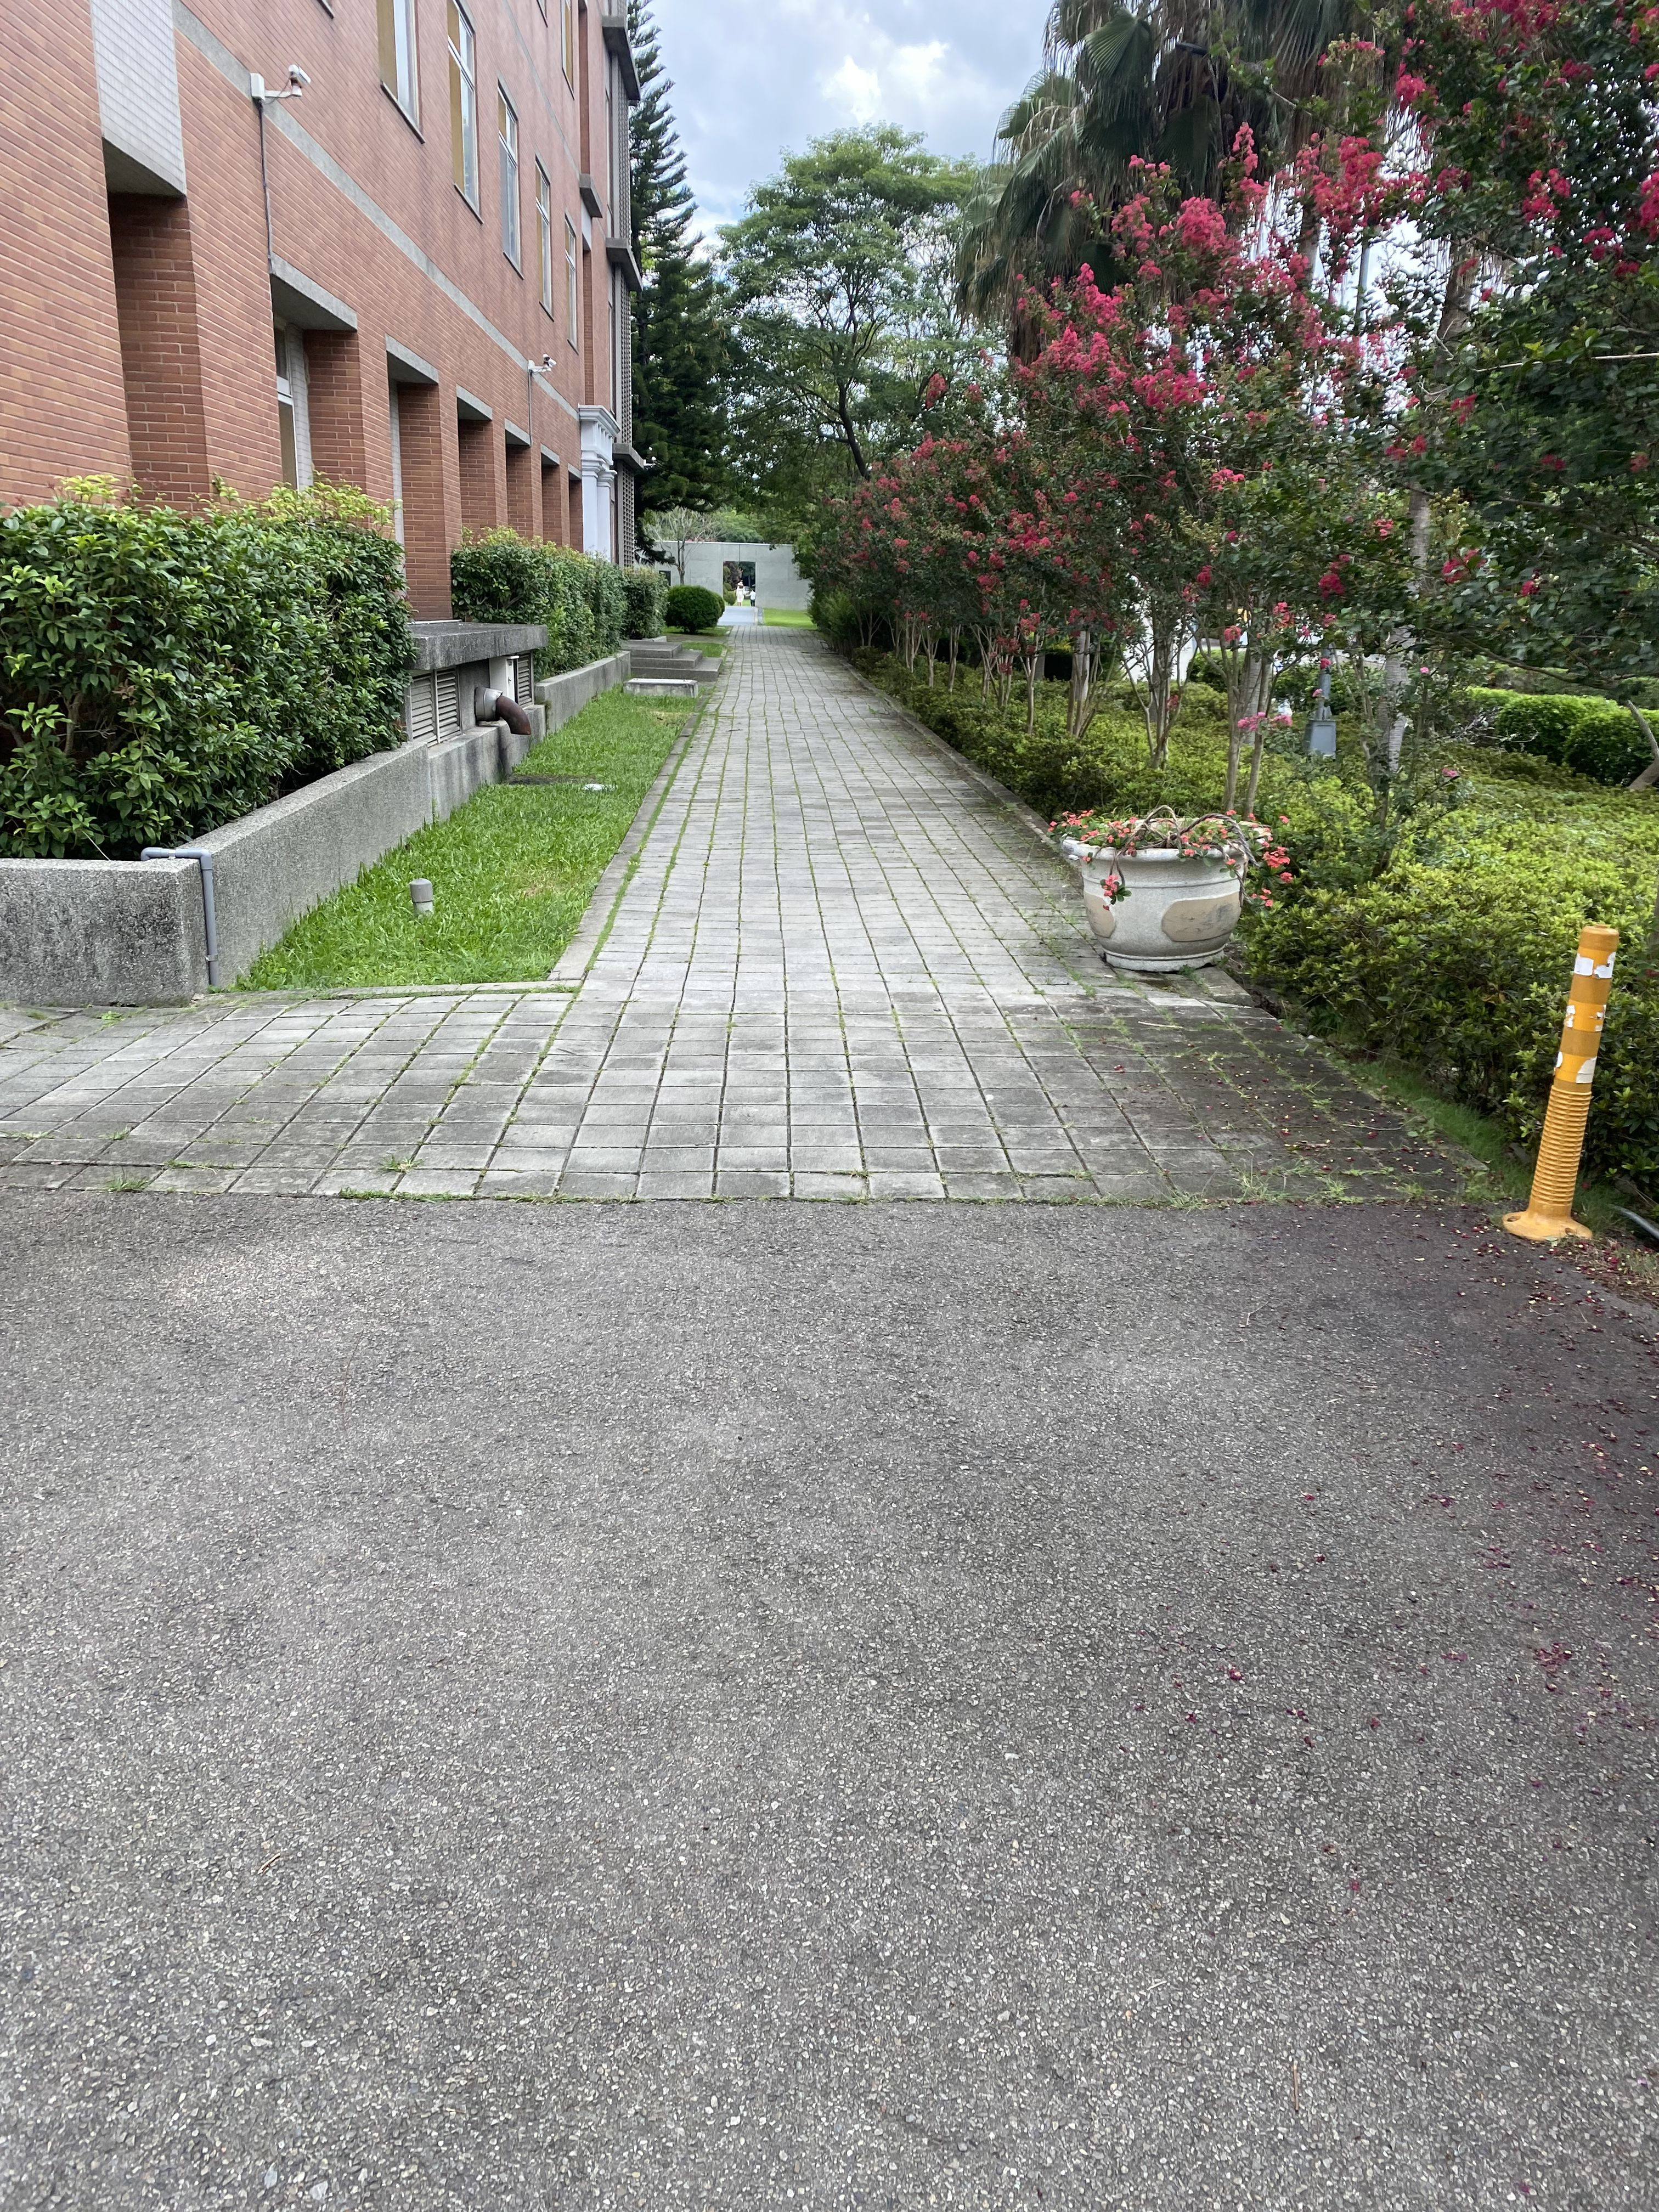0: (295, 1176, 1570, 2212)
sidewalk: (538, 577, 1504, 1514)
